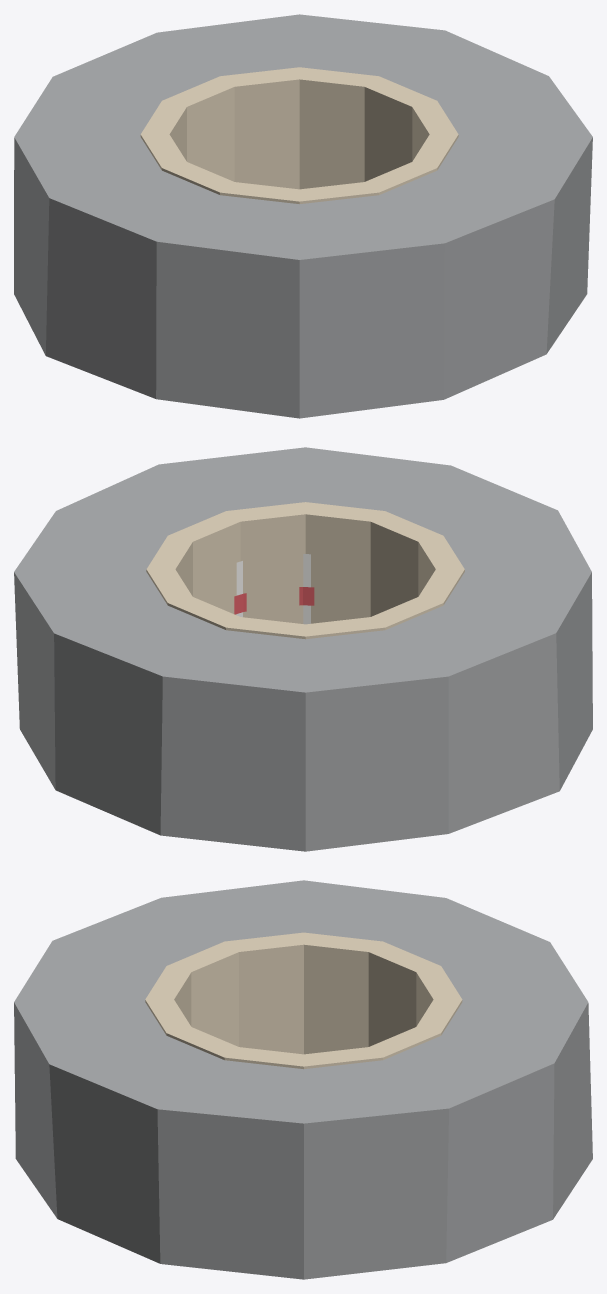
File: tape.fbx
3 renders of one model, top to bottom at view 1: azimuth 30°, elevation 25°; view 2: azimuth 150°, elevation 25°; view 3: azimuth 270°, elevation 25°, orthographic.
Visible parts, largest first — view 1: DuctTape_Outer, DuctTape_Core; view 2: DuctTape_Outer, DuctTape_Core, DuctTape_Label, DuctTape_RedStripe; view 3: DuctTape_Outer, DuctTape_Core.
Boxes of the visible parts, <box> form: DuctTape_Outer: <box>14,14,592,418</box>; DuctTape_Core: <box>140,67,458,204</box>; DuctTape_Outer: <box>14,447,592,851</box>; DuctTape_Core: <box>146,502,464,639</box>; DuctTape_Label: <box>236,554,310,624</box>; DuctTape_RedStripe: <box>234,587,314,614</box>; DuctTape_Outer: <box>14,880,592,1279</box>; DuctTape_Core: <box>145,932,462,1069</box>.
Bounding box in the file's own units: 201 × 62 × 201.
